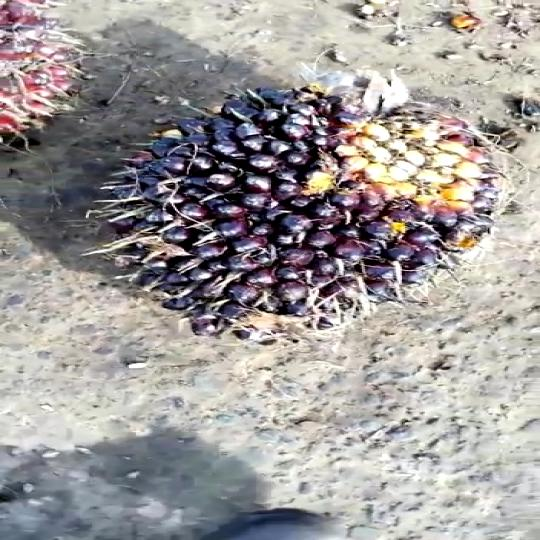mentah: (106, 67, 500, 342)
